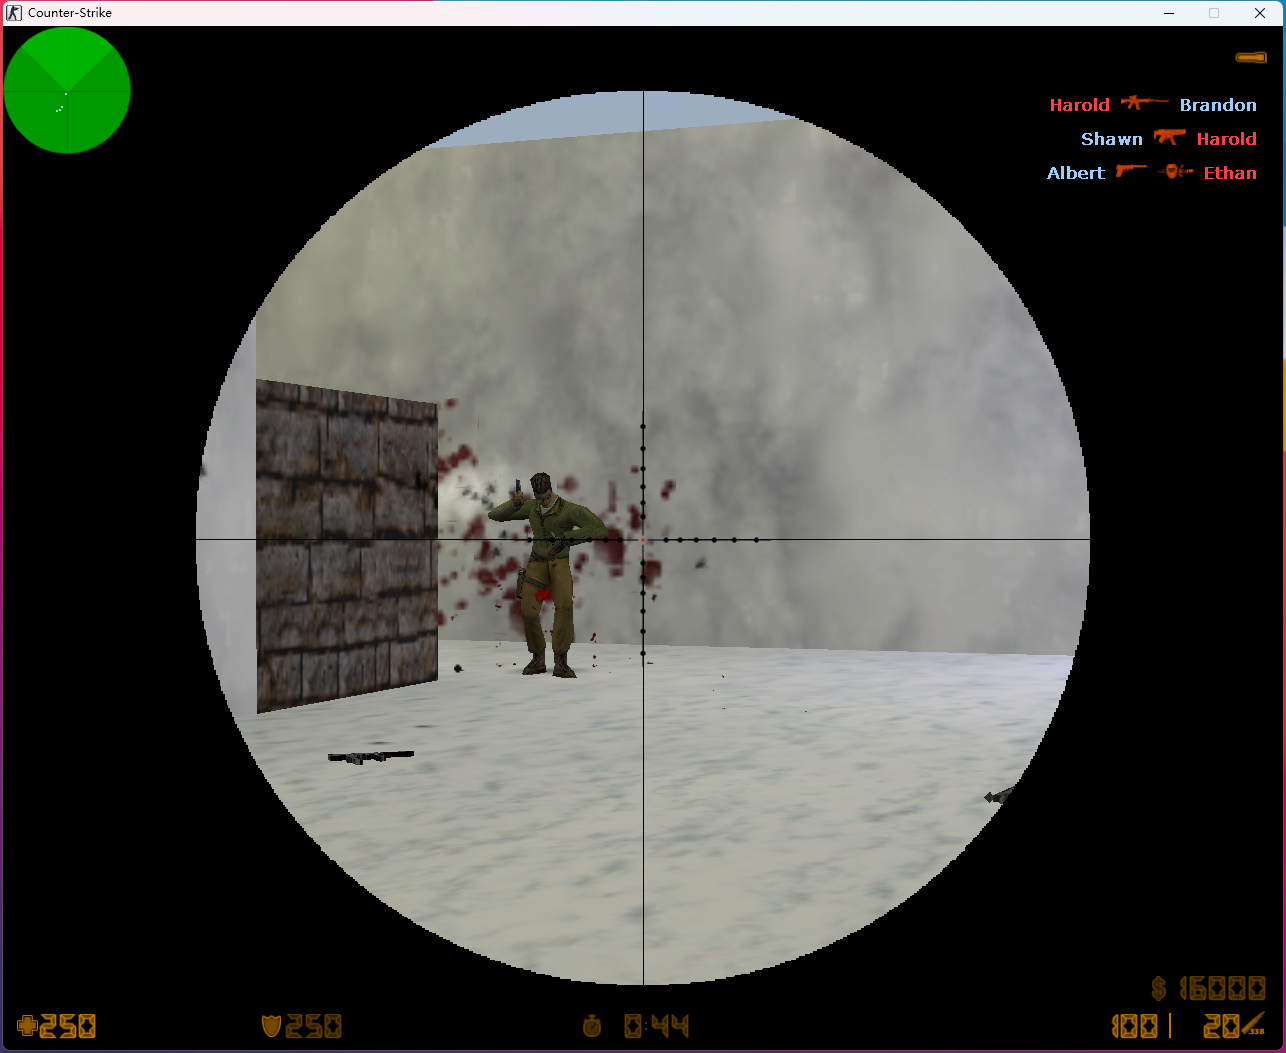T: (487, 473, 610, 680)
weapon: (327, 750, 418, 766)
